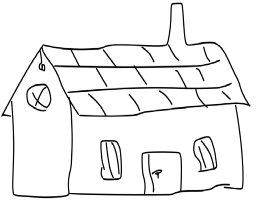big_house: (1, 1, 260, 203)
chimney: (158, 0, 196, 51)
closed_window: (90, 137, 131, 182), (188, 129, 225, 176), (23, 81, 53, 115)
door: (138, 146, 185, 200)
roof: (0, 38, 253, 122)
wall: (58, 93, 250, 198)
